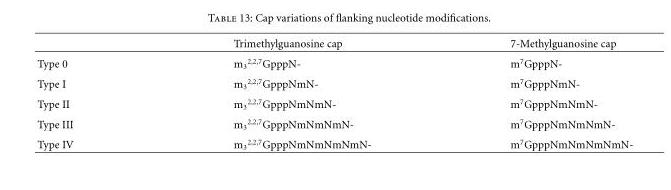table: (36, 37, 632, 150)
table column: (152, 37, 440, 150), (440, 37, 632, 150), (36, 37, 152, 150)
table column header: (36, 37, 632, 52)
table row: (36, 52, 632, 73), (36, 113, 632, 134), (36, 73, 632, 93), (36, 93, 632, 113), (36, 134, 632, 150), (36, 37, 632, 52)
